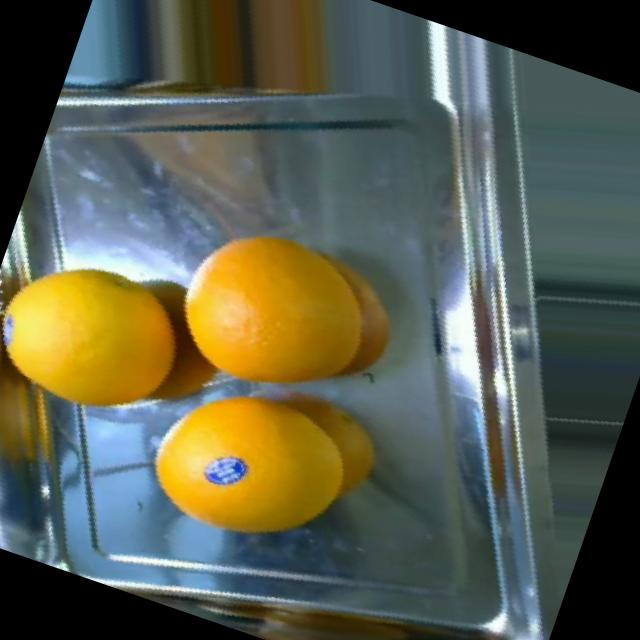Fruit: (200, 190, 446, 428), (180, 0, 377, 136)
